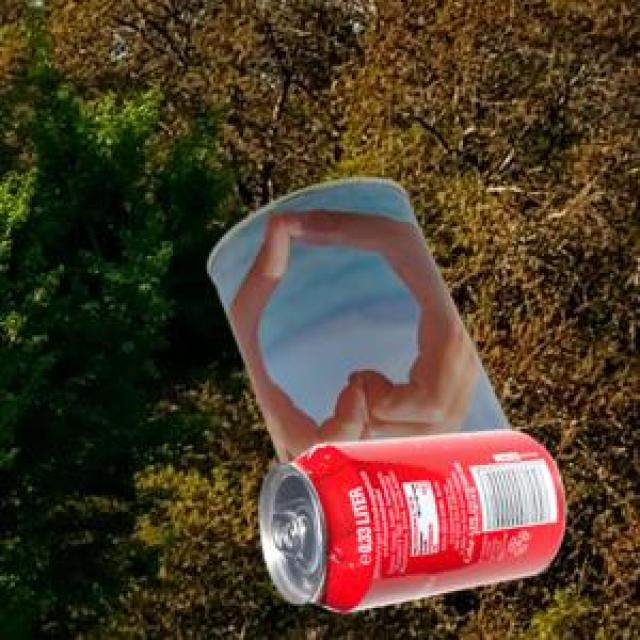logam: (206, 174, 509, 460), (257, 428, 562, 609)
